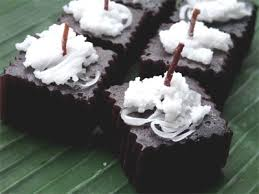kanompiakpoon: (104, 67, 237, 193), (1, 21, 120, 143), (140, 15, 243, 110)
